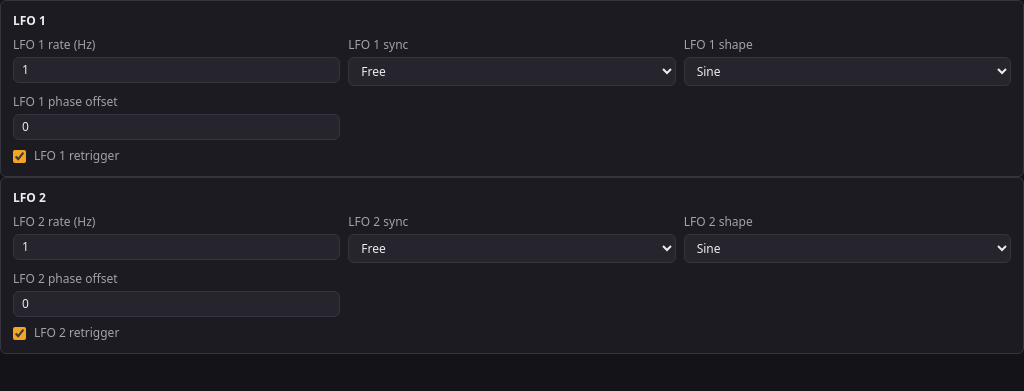
LfoEditor (spec §8.5.5, §6) › flags the approximated shapes rather than pretending they are exact
The image size is (1024, 391).
Select "Drift" in the dropdown labelled "LFO 2 shape": (847, 248) x1=684 y1=234 x2=1011 y2=263
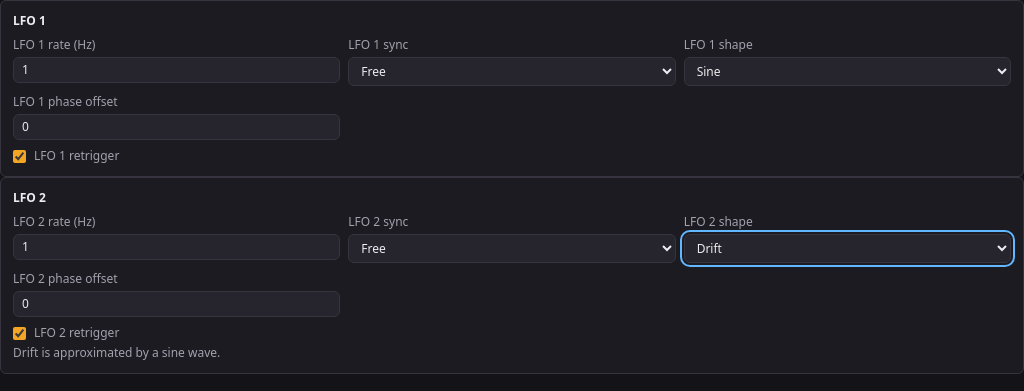
Expected: the list named "LFO 2 engine notes" shows "Drift is approximated by a sine wave", x1=13 y1=344 x2=220 y2=361
